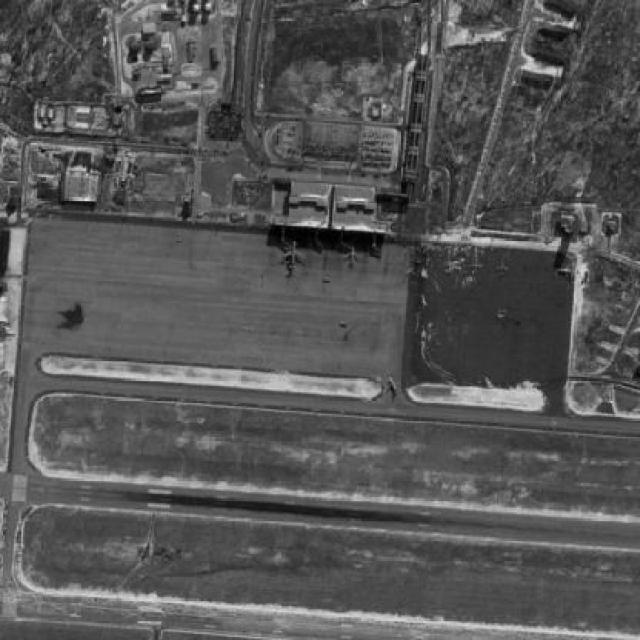airplane: (280, 239, 308, 273), (384, 377, 406, 397), (557, 262, 577, 282), (345, 246, 363, 268), (470, 257, 484, 276), (497, 261, 511, 278)
